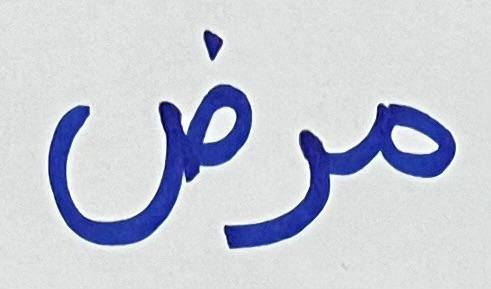dad: (45, 20, 252, 227)
meem: (335, 95, 461, 181)
reh: (253, 124, 333, 254)
